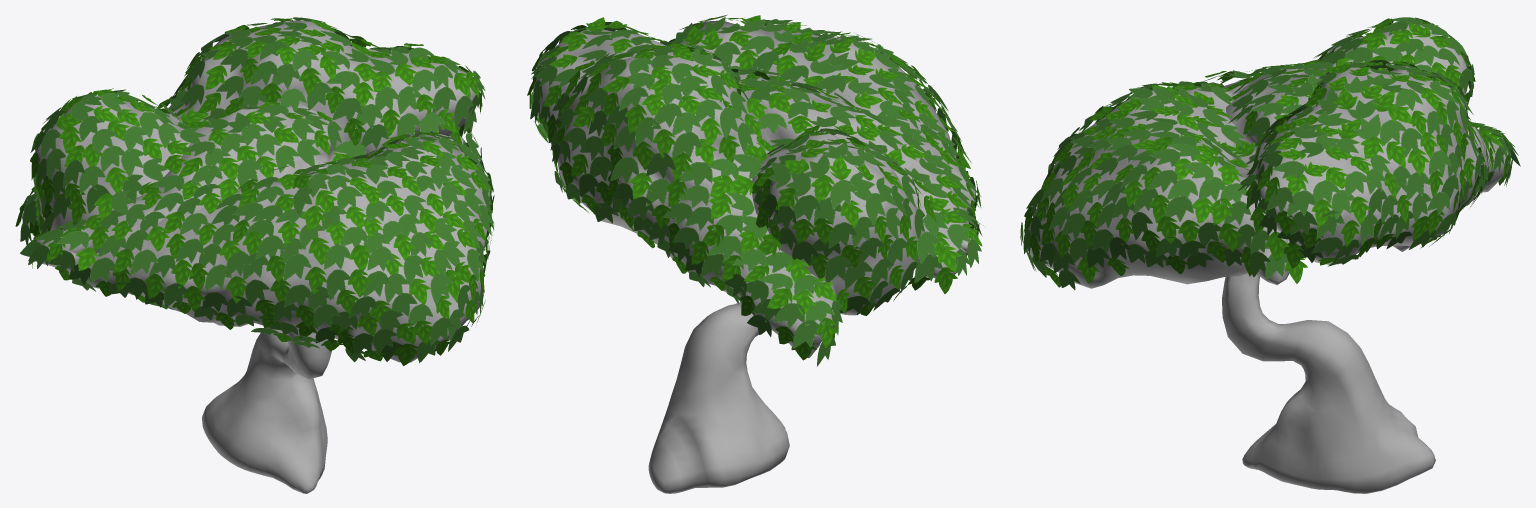
Rendered from SM_tree01.fbx.
3 views of the same model, side by side, from view 1: azimuth 30°, elevation 25°; view 2: azimuth 150°, elevation 25°; view 3: azimuth 270°, elevation 25° (orthographic). The views are drawn at different scales.
Parts seen in each view (by area): view 1: SM_Frond, SM_frond_01_LP, SM_trunk_LP, SM_frond_03_LP, SM_frond_02_LP, SM_frond_04_LP; view 2: SM_Frond, SM_trunk_LP, SM_frond_03_LP, SM_frond_04_LP, SM_frond_01_LP, SM_frond_02_LP; view 3: SM_Frond, SM_trunk_LP, SM_frond_01_LP, SM_frond_03_LP, SM_frond_02_LP, SM_frond_04_LP.
Part boxes in pixels (x1,y1,x2,y2): SM_Frond: [15, 17, 494, 365]; SM_frond_01_LP: [36, 135, 491, 362]; SM_trunk_LP: [202, 327, 331, 493]; SM_frond_03_LP: [22, 20, 479, 233]; SM_frond_02_LP: [45, 104, 480, 253]; SM_frond_04_LP: [36, 95, 189, 230]; SM_Frond: [527, 14, 983, 366]; SM_trunk_LP: [648, 302, 789, 493]; SM_frond_03_LP: [533, 29, 836, 357]; SM_frond_04_LP: [752, 132, 923, 315]; SM_frond_01_LP: [680, 20, 975, 278]; SM_frond_02_LP: [736, 74, 970, 250]; SM_Frond: [1020, 17, 1520, 289]; SM_trunk_LP: [1222, 273, 1435, 493]; SM_frond_01_LP: [1027, 81, 1287, 288]; SM_frond_03_LP: [1253, 66, 1509, 264]; SM_frond_02_LP: [1226, 68, 1319, 284]; SM_frond_04_LP: [1318, 24, 1466, 95].
Bounding box in the file's own units: 710 × 628 × 684.
